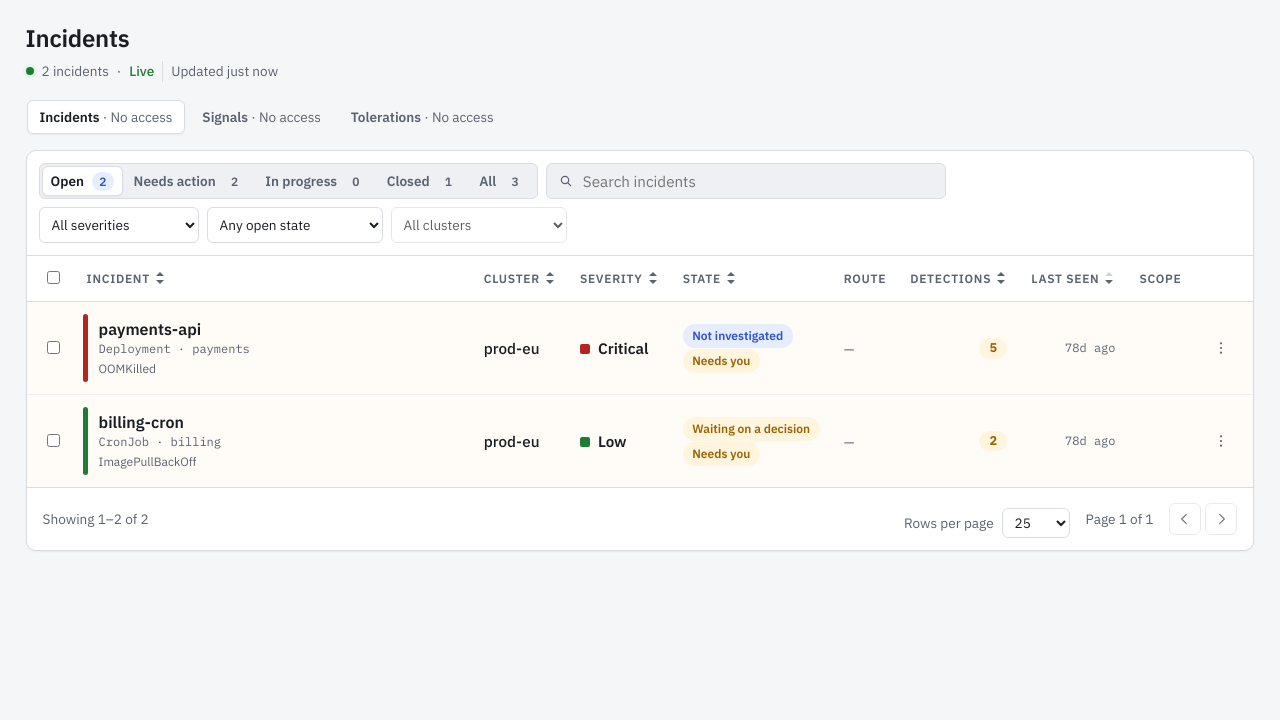
IncidentsPage — status tabs, severity and state filters › counts every tab under the other filters, from the server breakdown
The width and height of the screenshot is (1280, 720).
Expected: the link "payments-api" is shown, [99, 318, 201, 341]
Expected: the 1st text "2" is shown, [92, 172, 114, 191]
Note: A severity narrows the tab counts too: only the critical one is open.
Step 1. Select "Critical (1)" in the 1st dropdown named "Filter by severity" → (119, 225), box [39, 207, 199, 243]
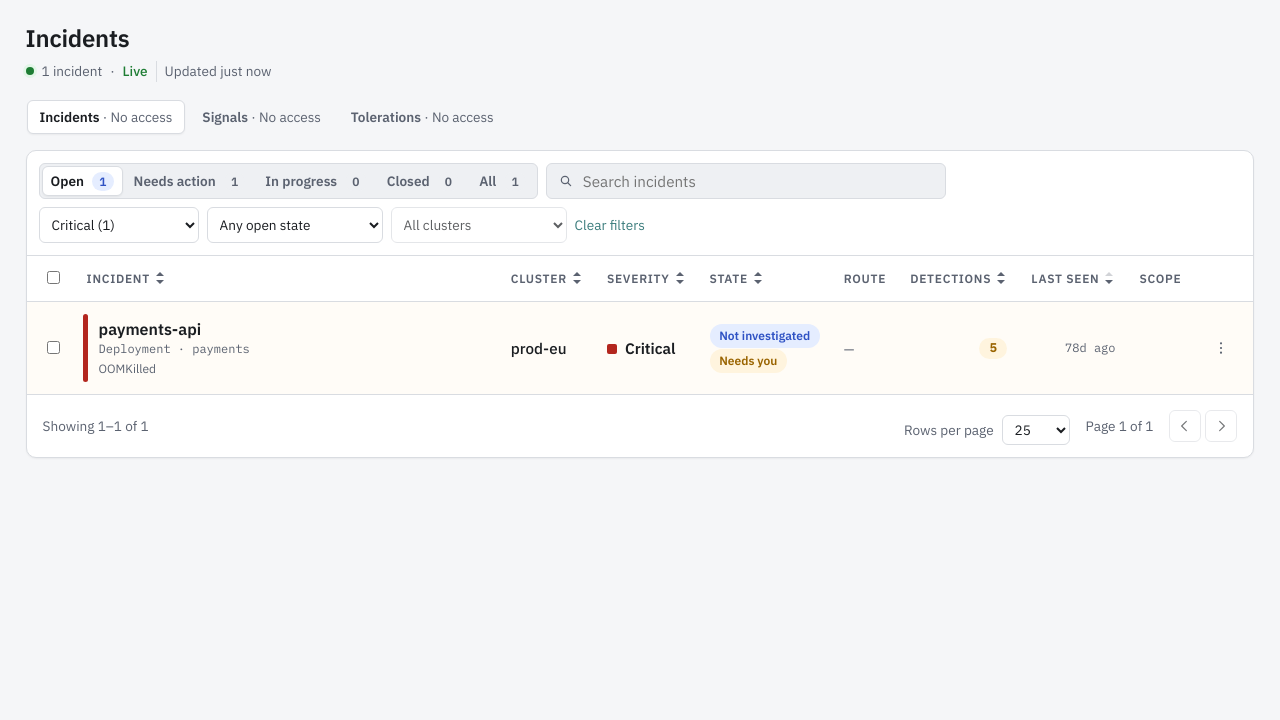
Result: the 1st text "1" is shown at [92, 172, 114, 191]
Result: the 2nd text "0" is shown at [438, 172, 459, 191]
